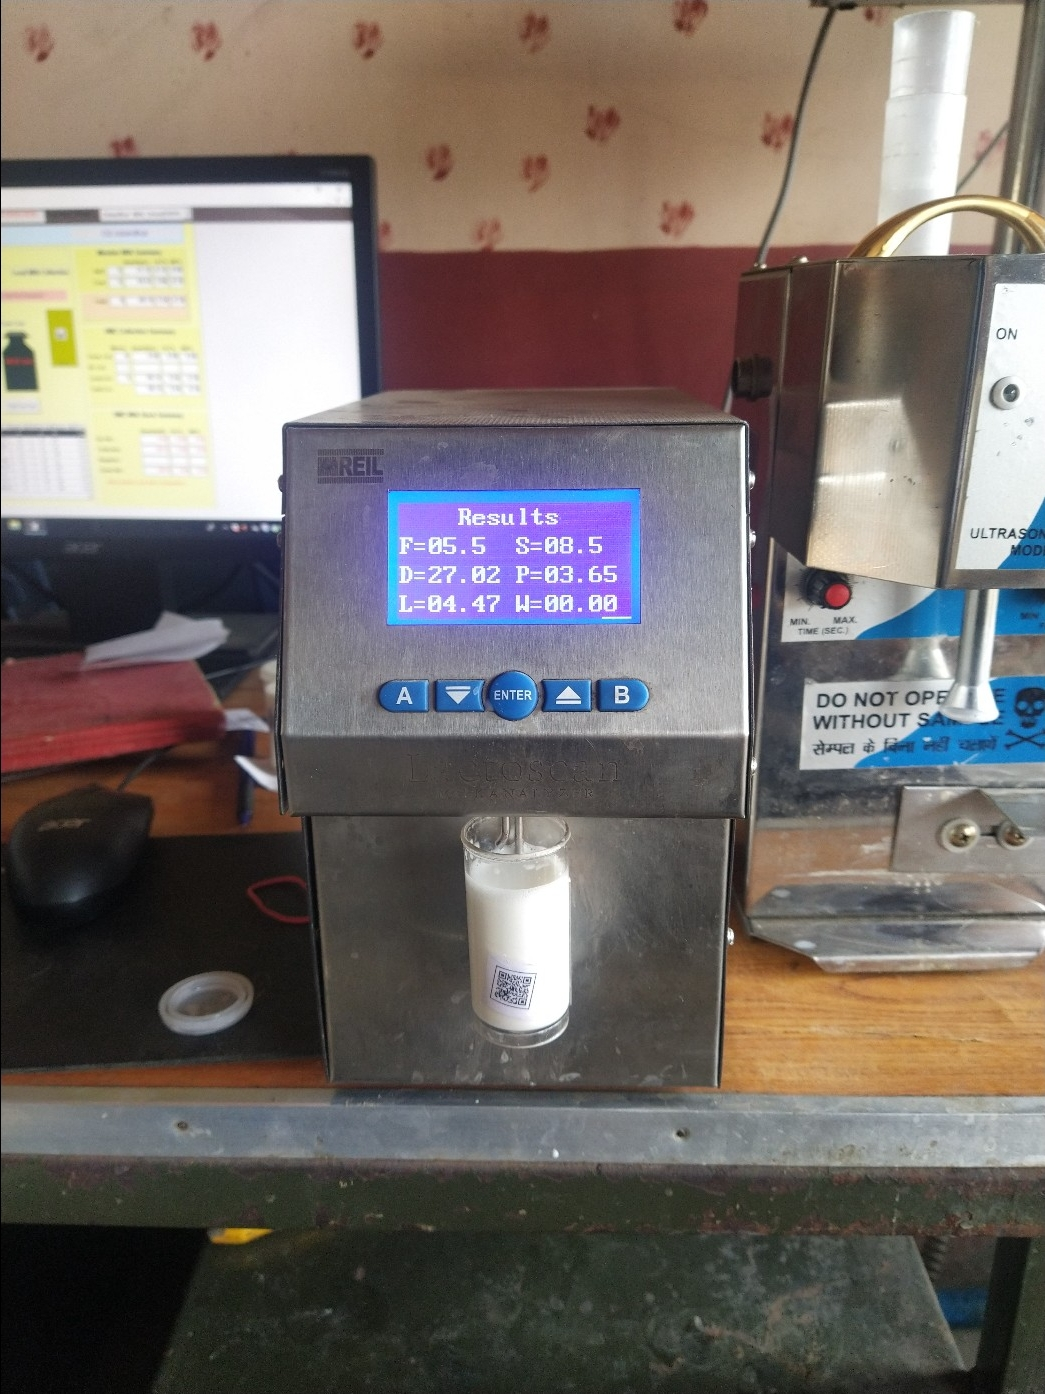lcd: (377, 479, 649, 632)
qr: (477, 956, 540, 1026)
